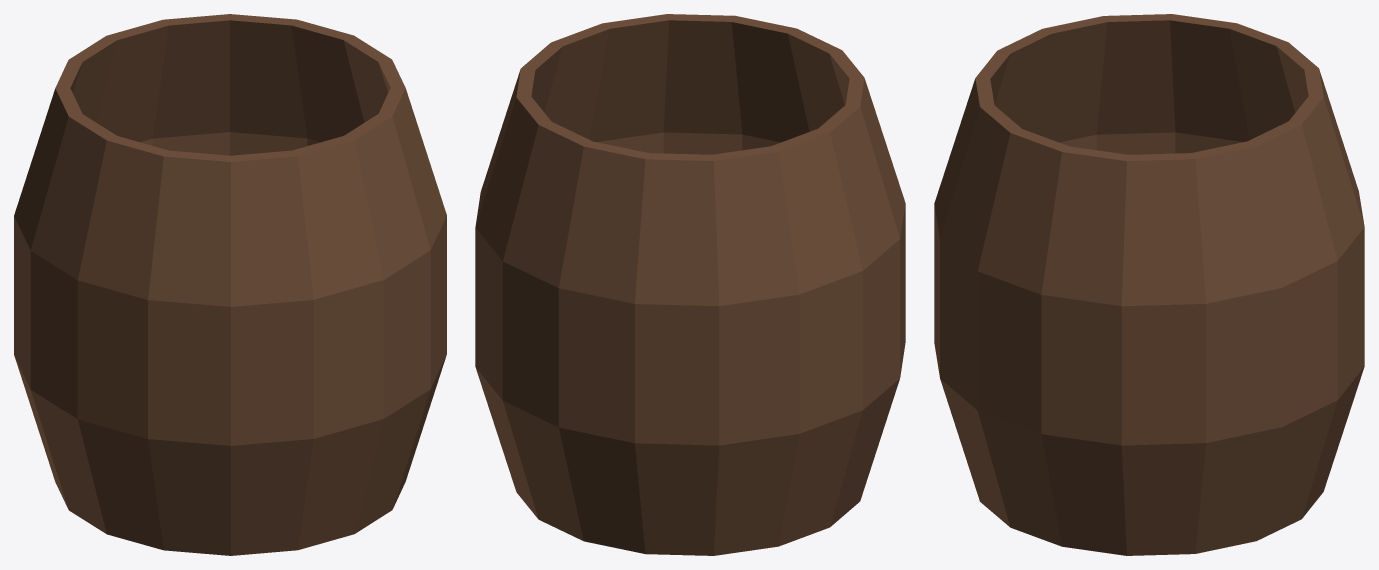
The model's file is barrel.gltf.
3 views of the same model, side by side, from view 1: azimuth 30°, elevation 25°; view 2: azimuth 150°, elevation 25°; view 3: azimuth 270°, elevation 25° (orthographic).
Visible parts, largest first — view 1: Barrel; view 2: Barrel; view 3: Barrel.
Part boxes in pixels (<box>): Barrel: <box>14,14,446,555</box>; Barrel: <box>475,14,905,555</box>; Barrel: <box>934,14,1364,555</box>.
Size of the model in its own units: 1.89 by 1.91 by 1.89.
